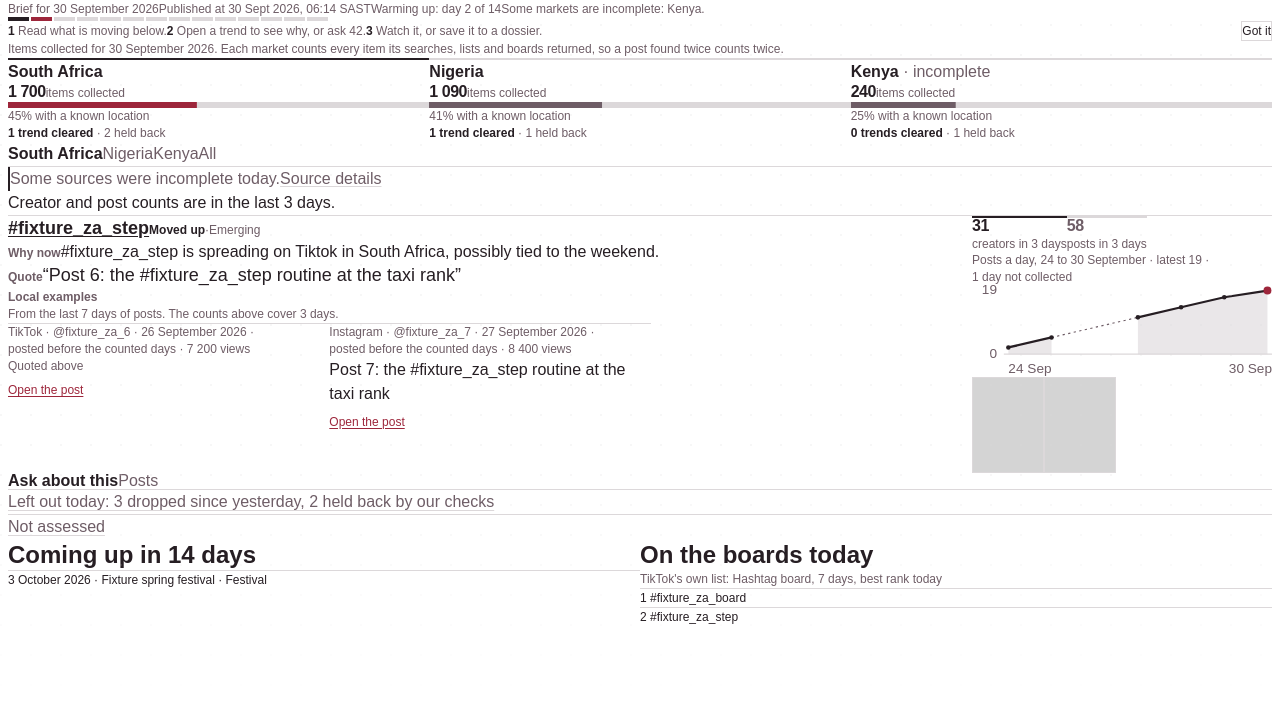
Test: Posts loads the trend and lists its evidence in place
This screenshot has width=1280, height=714.
(page scrolled)
Click the button "Posts": (138,481) x1=118 y1=473 x2=158 y2=489
(page scrolled)
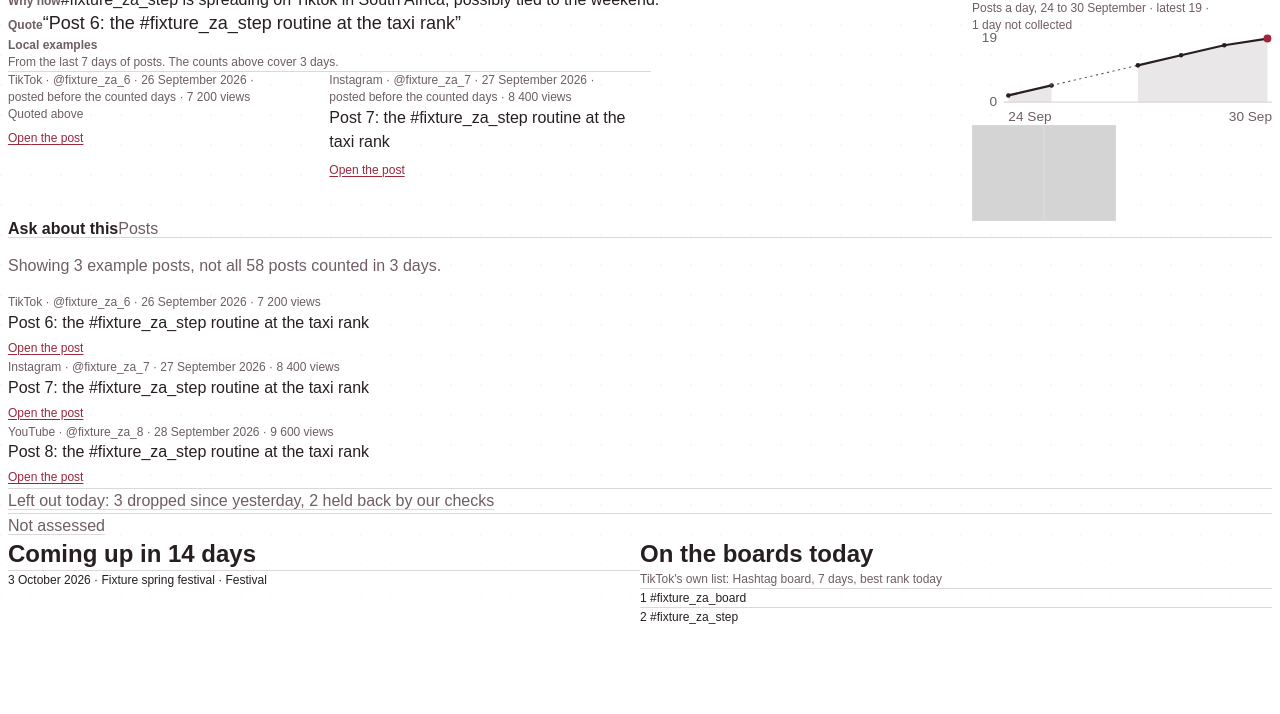
Expected: the list item that starts with "YouTube" is shown, x1=8 y1=424 x2=55 y2=438
Expected: the list item that starts with "YouTube" shows "@fixture_za_8", x1=66 y1=424 x2=143 y2=438
Expected: the list item that starts with "YouTube" shows "28 September 2026", x1=154 y1=424 x2=260 y2=438
